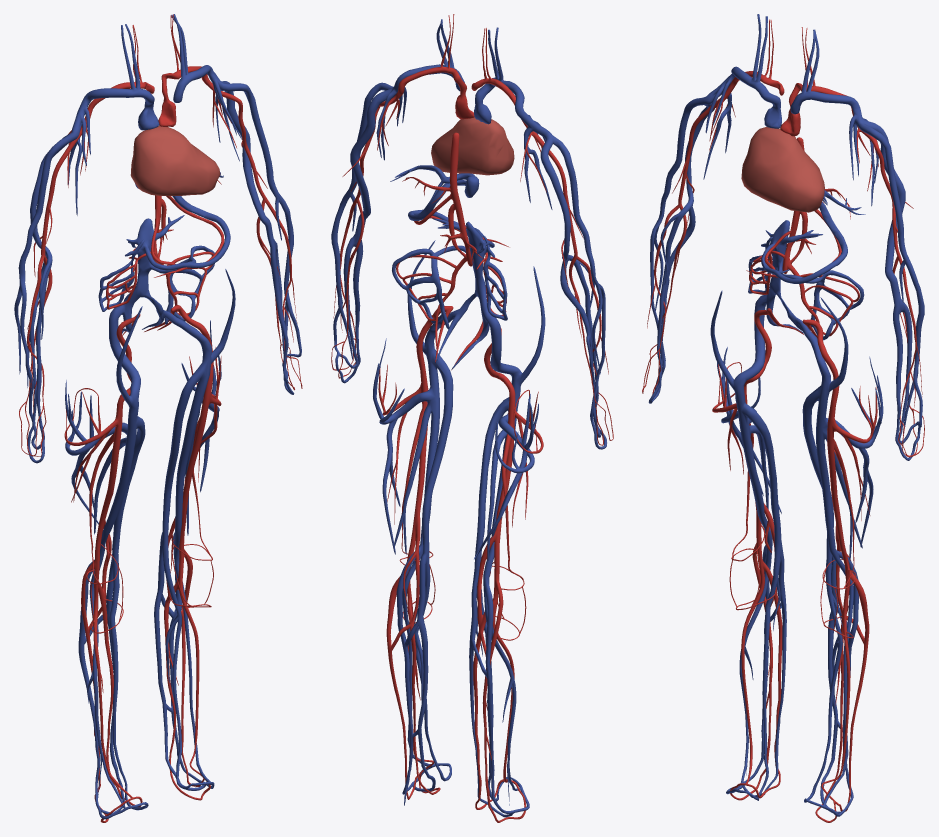
File: pediatric_child_5y_male.cardiovascular.LOD1.glb
3 renders of one model, left to right at view 1: azimuth 30°, elevation 25°; view 2: azimuth 150°, elevation 25°; view 3: azimuth 330°, elevation 25°, orthographic.
Visible parts, largest first — view 1: PEDIATRIC.CHILD_5Y.MALE.CARDIOVASCULAR.BLOOD_IN_LARGE_VEINS, PEDIATRIC.CHILD_5Y.MALE.CARDIOVASCULAR.BLOOD_IN_LARGE_ARTERI, PEDIATRIC.CHILD_5Y.MALE.CARDIOVASCULAR.HEART_WALL; view 2: PEDIATRIC.CHILD_5Y.MALE.CARDIOVASCULAR.BLOOD_IN_LARGE_VEINS, PEDIATRIC.CHILD_5Y.MALE.CARDIOVASCULAR.BLOOD_IN_LARGE_ARTERI, PEDIATRIC.CHILD_5Y.MALE.CARDIOVASCULAR.HEART_WALL; view 3: PEDIATRIC.CHILD_5Y.MALE.CARDIOVASCULAR.BLOOD_IN_LARGE_VEINS, PEDIATRIC.CHILD_5Y.MALE.CARDIOVASCULAR.BLOOD_IN_LARGE_ARTERI, PEDIATRIC.CHILD_5Y.MALE.CARDIOVASCULAR.HEART_WALL.
Part boxes in pixels (x1,y1,x2,y2): PEDIATRIC.CHILD_5Y.MALE.CARDIOVASCULAR.BLOOD_IN_LARGE_VEINS: [14, 14, 301, 819]; PEDIATRIC.CHILD_5Y.MALE.CARDIOVASCULAR.BLOOD_IN_LARGE_ARTERI: [19, 14, 302, 822]; PEDIATRIC.CHILD_5Y.MALE.CARDIOVASCULAR.HEART_WALL: [130, 125, 220, 195]; PEDIATRIC.CHILD_5Y.MALE.CARDIOVASCULAR.BLOOD_IN_LARGE_VEINS: [331, 19, 606, 817]; PEDIATRIC.CHILD_5Y.MALE.CARDIOVASCULAR.BLOOD_IN_LARGE_ARTERI: [331, 14, 613, 822]; PEDIATRIC.CHILD_5Y.MALE.CARDIOVASCULAR.HEART_WALL: [431, 117, 514, 175]; PEDIATRIC.CHILD_5Y.MALE.CARDIOVASCULAR.BLOOD_IN_LARGE_VEINS: [648, 14, 924, 816]; PEDIATRIC.CHILD_5Y.MALE.CARDIOVASCULAR.BLOOD_IN_LARGE_ARTERI: [642, 19, 924, 822]; PEDIATRIC.CHILD_5Y.MALE.CARDIOVASCULAR.HEART_WALL: [741, 127, 824, 212].
Size of the model in its own units: 0.3473 by 0.9432 by 0.1172.
